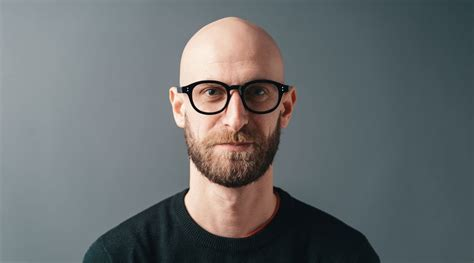sem_capacete: (164, 15, 302, 199)
